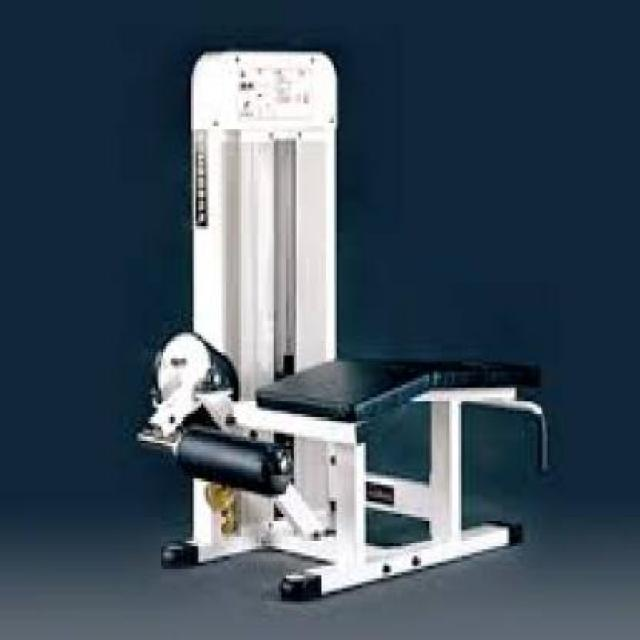reg curl machine: (137, 46, 560, 605)
